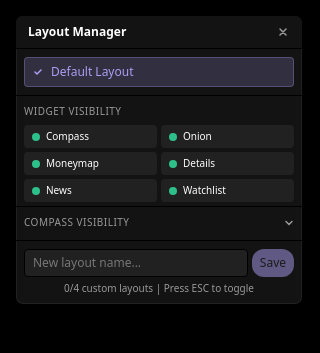
Test: LayoutManagerPanel › saves a new layout via input
Step 1. Type "My Layout" into the field with placeholder "New layout name..." → x=136, y=263, box x1=24 y1=249 x2=248 y2=277
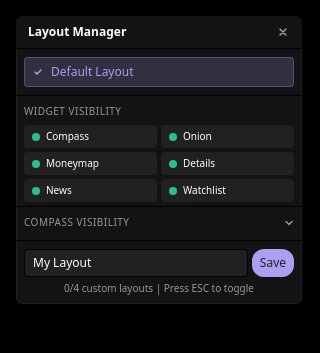
Step 2. Click the button "Save" → x=273, y=263, box x1=252 y1=249 x2=294 y2=277
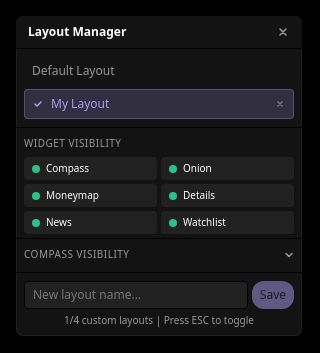
Check: the text "My Layout" is shown, box x1=51 y1=96 x2=109 y2=112
